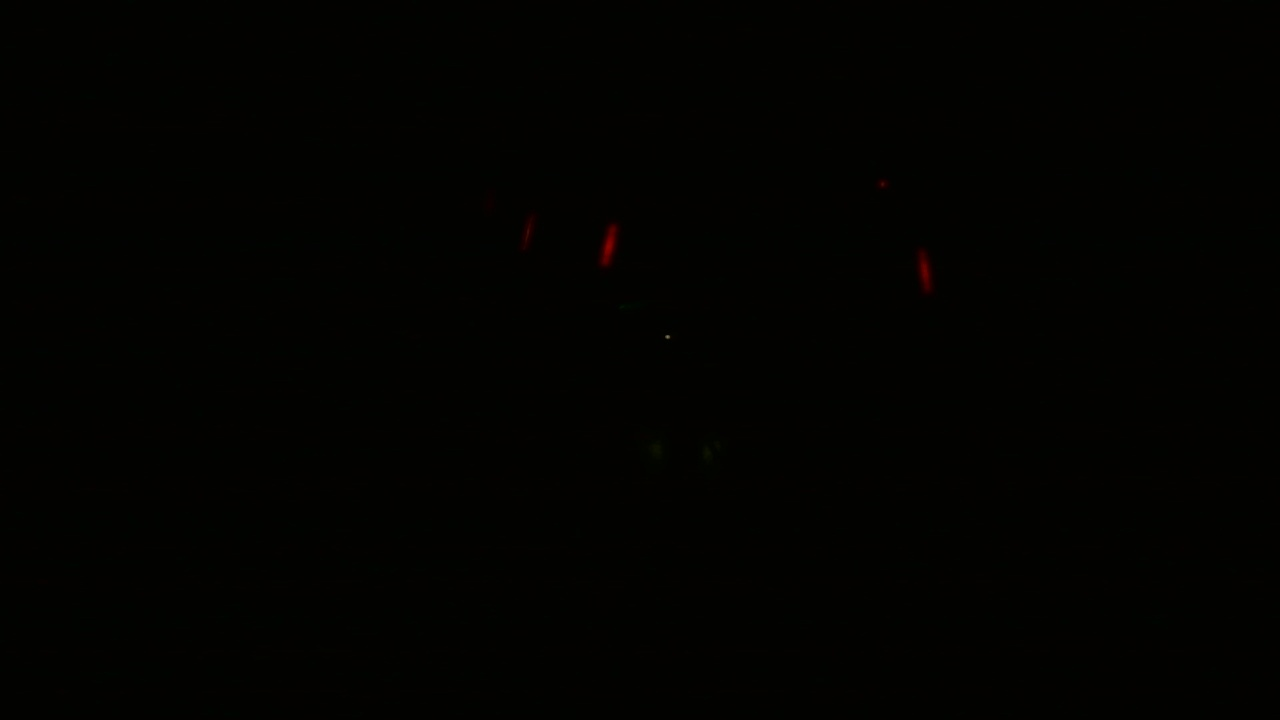pair1: (512, 218, 622, 269)
